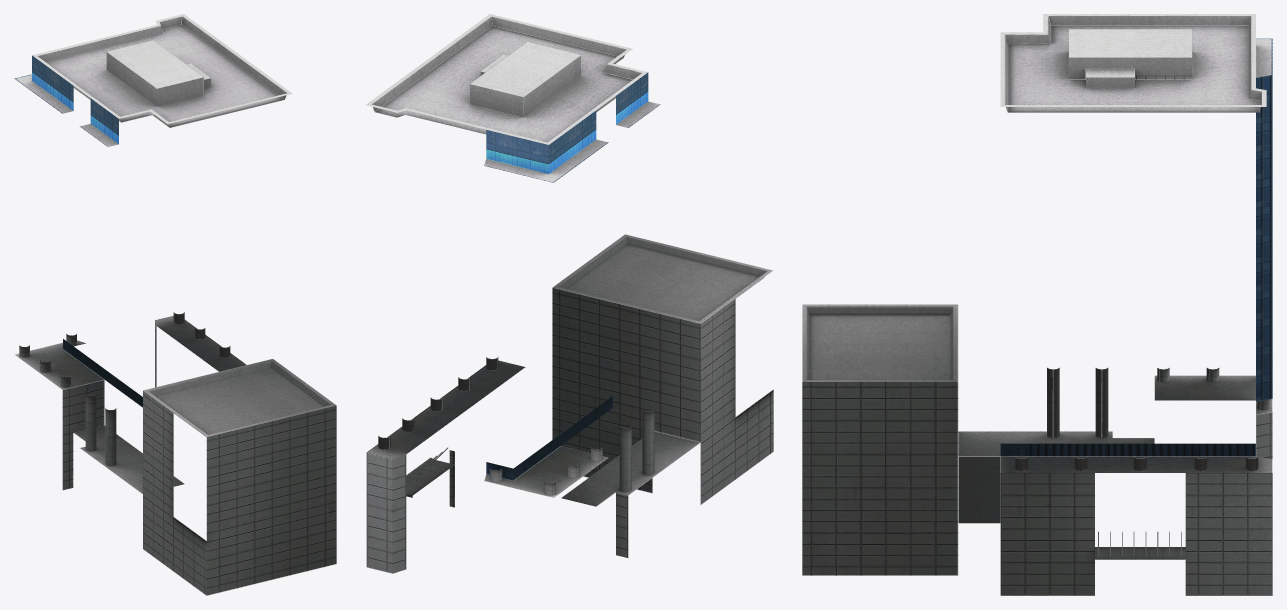
3 renders of one model, left to right at view 1: azimuth 30°, elevation 25°; view 2: azimuth 150°, elevation 25°; view 3: azimuth 270°, elevation 25°, orthographic. The views are drawn at different scales.
Visible parts, largest first — view 1: 1016; view 2: 1016; view 3: 1016.
Part boxes in pixels (x1=…): 1016: x1=14, y1=14, x2=336, y2=595; 1016: x1=366, y1=14, x2=773, y2=573; 1016: x1=802, y1=14, x2=1272, y2=595.
Size of the model in its own units: 53.3 by 117 by 98.5.
1 material, 1 textured.
